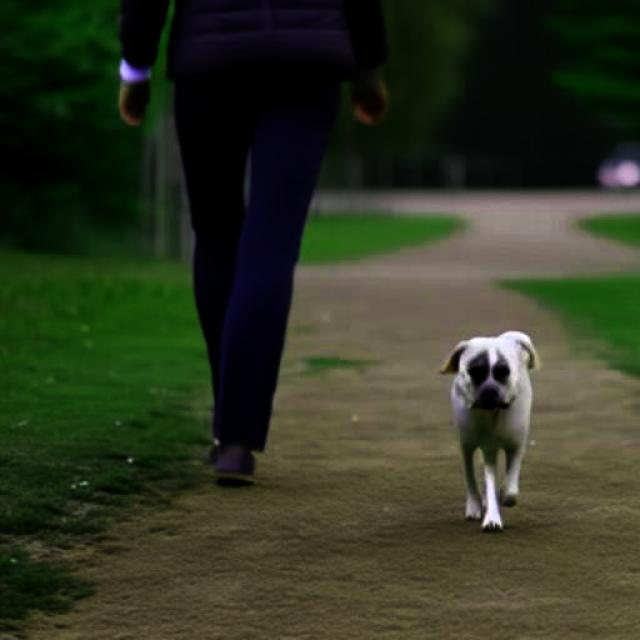Unleashed_Dog: (193, 73, 541, 533)
